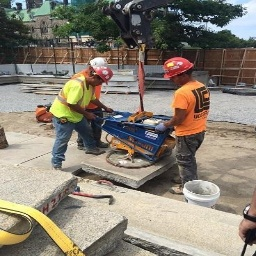helmet: (161, 58, 195, 78), (88, 66, 115, 86), (88, 59, 111, 67)
person: (163, 57, 225, 196), (47, 66, 113, 173), (73, 58, 111, 153)
vest: (171, 87, 217, 137), (60, 78, 93, 120), (77, 72, 88, 79)
